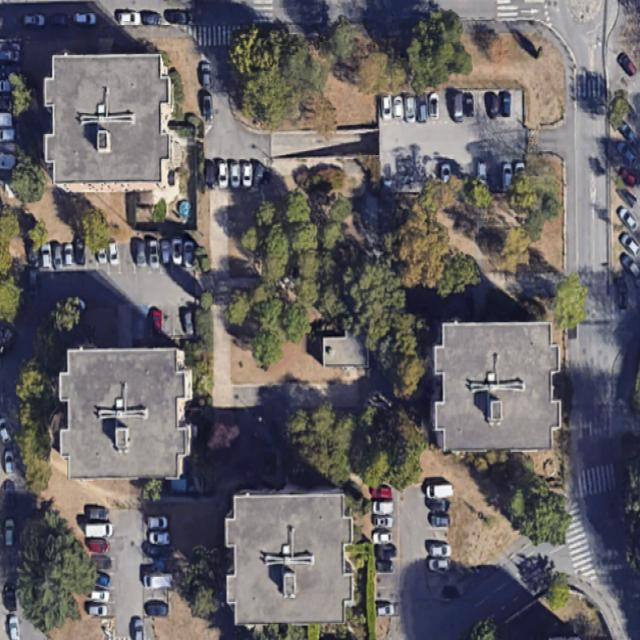immeuble: (42, 53, 174, 193), (59, 351, 192, 477), (226, 493, 352, 624), (433, 322, 561, 448)
